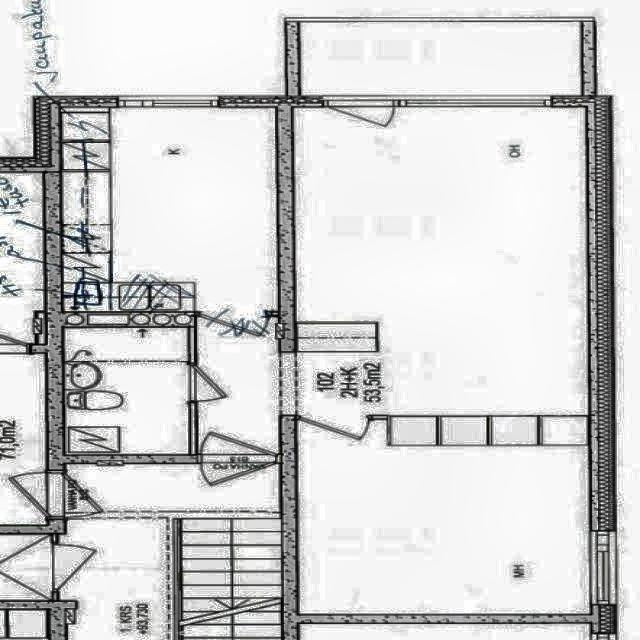room: (295, 104, 587, 418), (297, 420, 590, 615), (63, 108, 275, 311), (299, 22, 579, 95), (67, 328, 187, 453), (57, 517, 172, 640), (65, 464, 278, 512)
